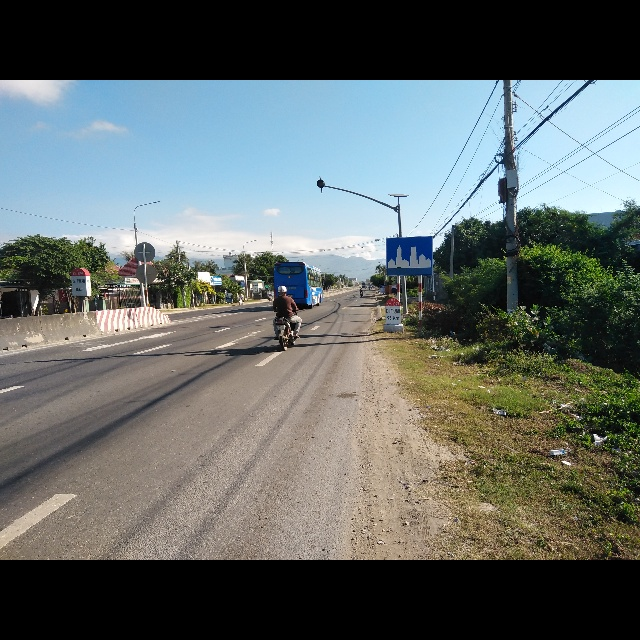Khu đông dân cư: (383, 232, 434, 275)
